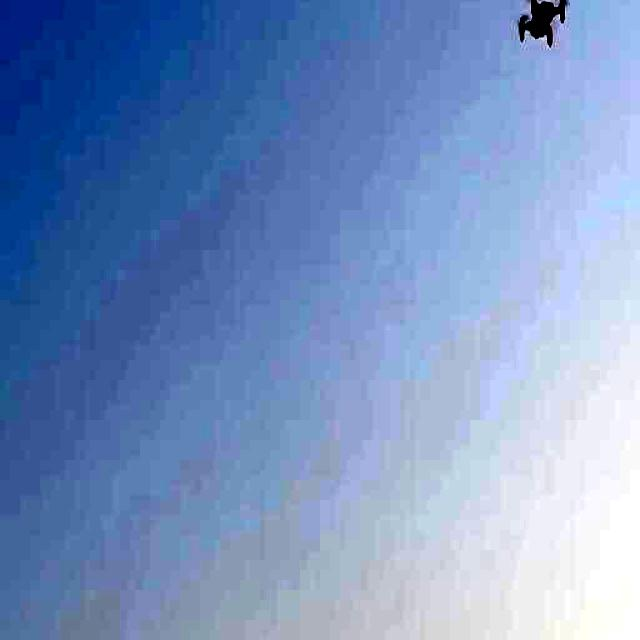bird: (518, 0, 569, 56)
